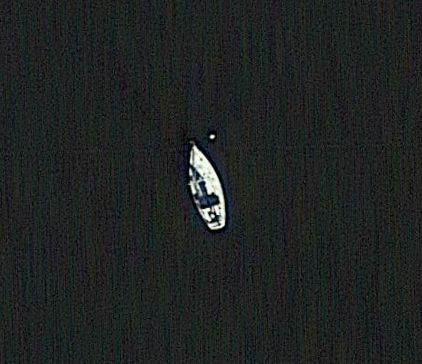boat: (182, 138, 231, 233)
